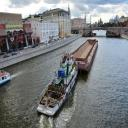tugboat: (37, 54, 80, 119)
